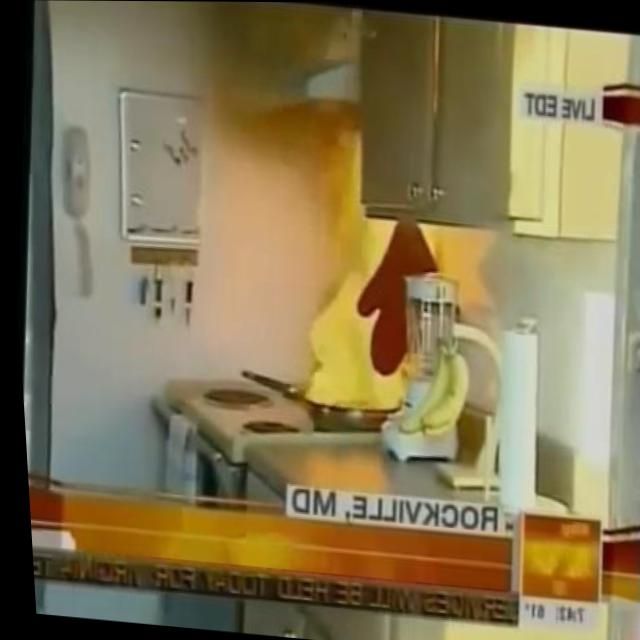fire: (282, 129, 443, 416)
